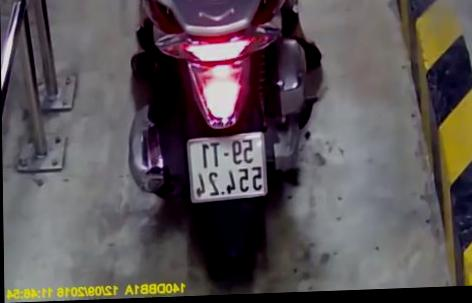License_Plate: (181, 128, 271, 208)
